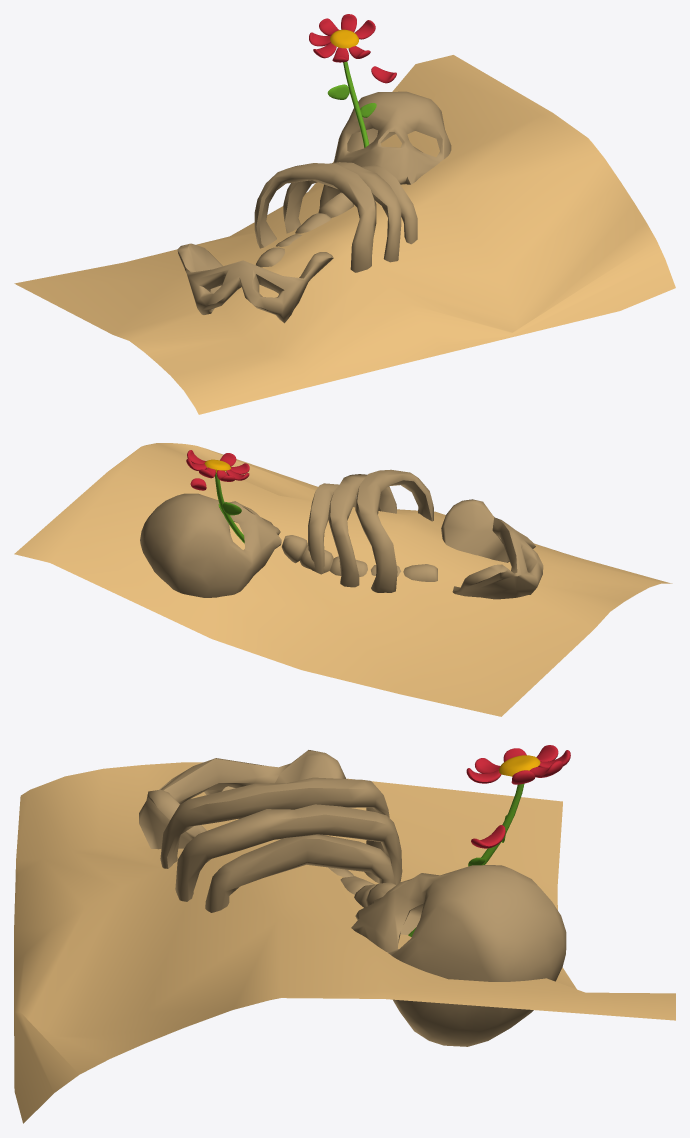
Rendered from skeleton.glb.
3 views of the same model, one above another, from view 1: azimuth 30°, elevation 25°; view 2: azimuth 150°, elevation 25°; view 3: azimuth 270°, elevation 25° (orthographic). The views are drawn at different scales.
Visible parts, largest first — view 1: Skeleton; view 2: Skeleton; view 3: Skeleton.
Part boxes in pixels (box(x1,y1,x2,y2)): Skeleton: box(14, 14, 675, 414); Skeleton: box(14, 443, 672, 716); Skeleton: box(14, 745, 675, 1123).
Bounding box in the file's own units: 2.71 × 1.05 × 2.21.
Materials: 1 (1 with a texture image).
